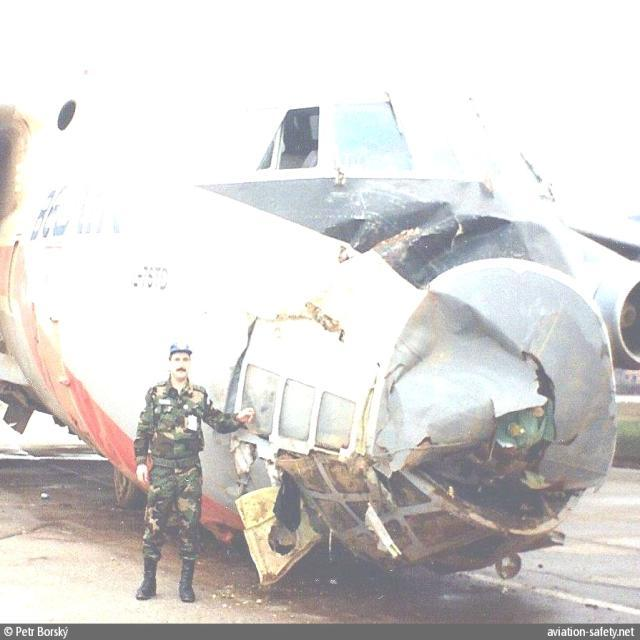dent: (344, 211, 446, 260)
